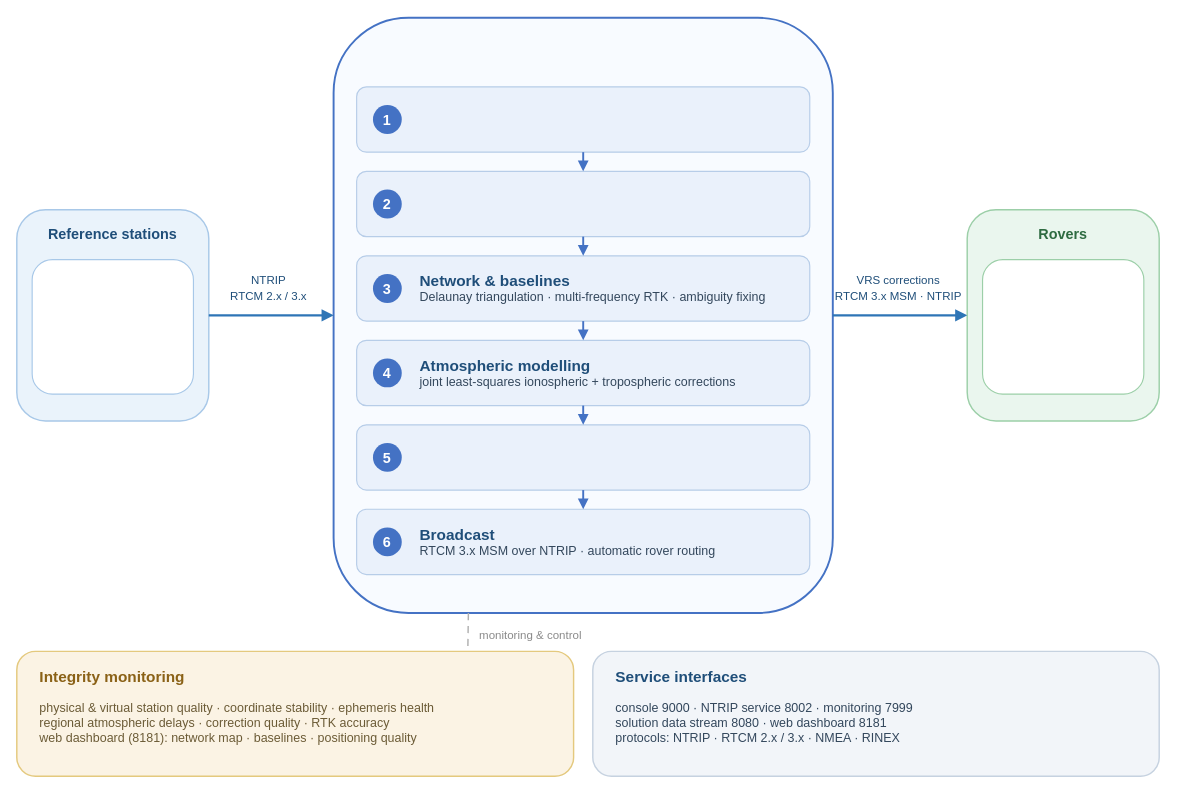
The diagram is 1177 pixels wide and 793 high, and some of its shapes have lost their labels. Each missing label, with the box of its shape:
CORS engine real-time network RTK · VRS solution core: (332, 16, 833, 613)
GNSS receivers any brand · 24/7 tracking RTCM 2.x / 3.x output: (31, 259, 194, 394)
GNSS rovers any brand RTCM 3.x · NTRIP: (982, 259, 1144, 394)
Ingest & decode NTRIP client · RTCM 2.x / 3.x message decoding: (356, 86, 810, 152)
Satellite products multi-GNSS orbit & clock computation · RAIM · time systems: (356, 170, 810, 237)
VRS generation real-time pseudorange & carrier-phase observations: (356, 424, 810, 490)
